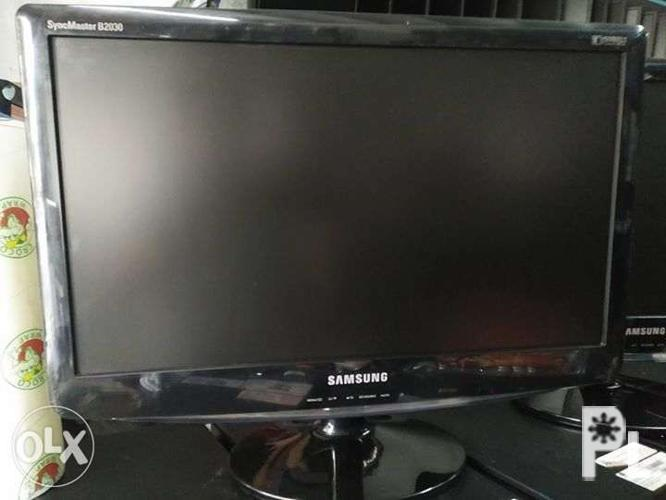samsung-monitor-b2030: (53, 21, 647, 497)
